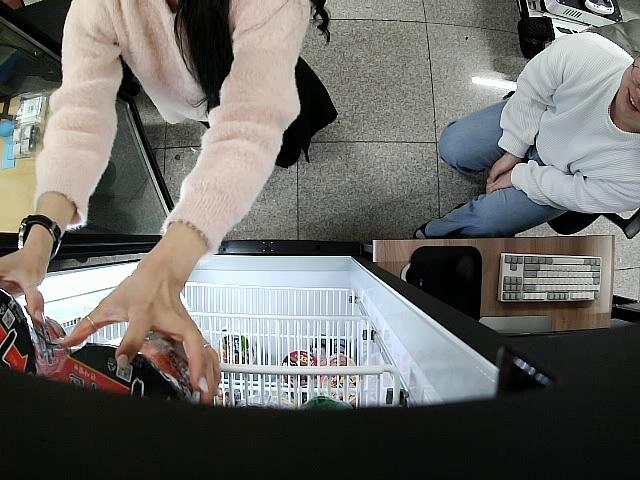00_hand: (61, 272, 223, 406), (0, 287, 70, 380), (0, 252, 47, 323)
01_shinRamen_L: (62, 333, 198, 400)
